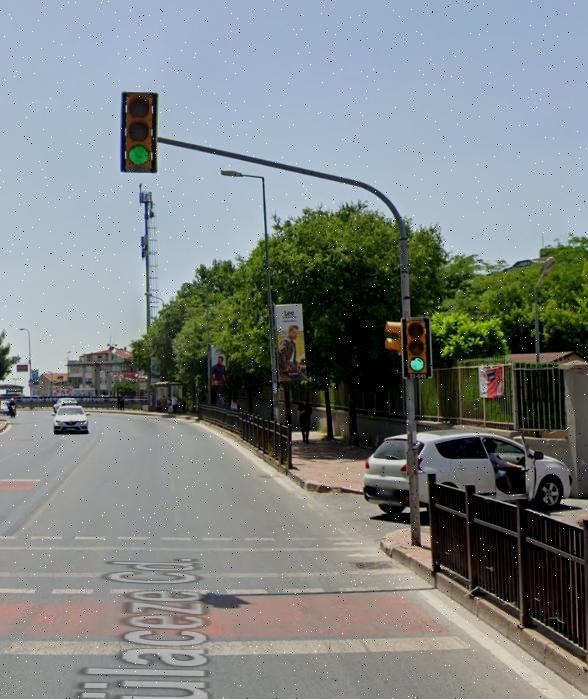greenlight: (126, 92, 155, 169), (405, 318, 429, 371)
